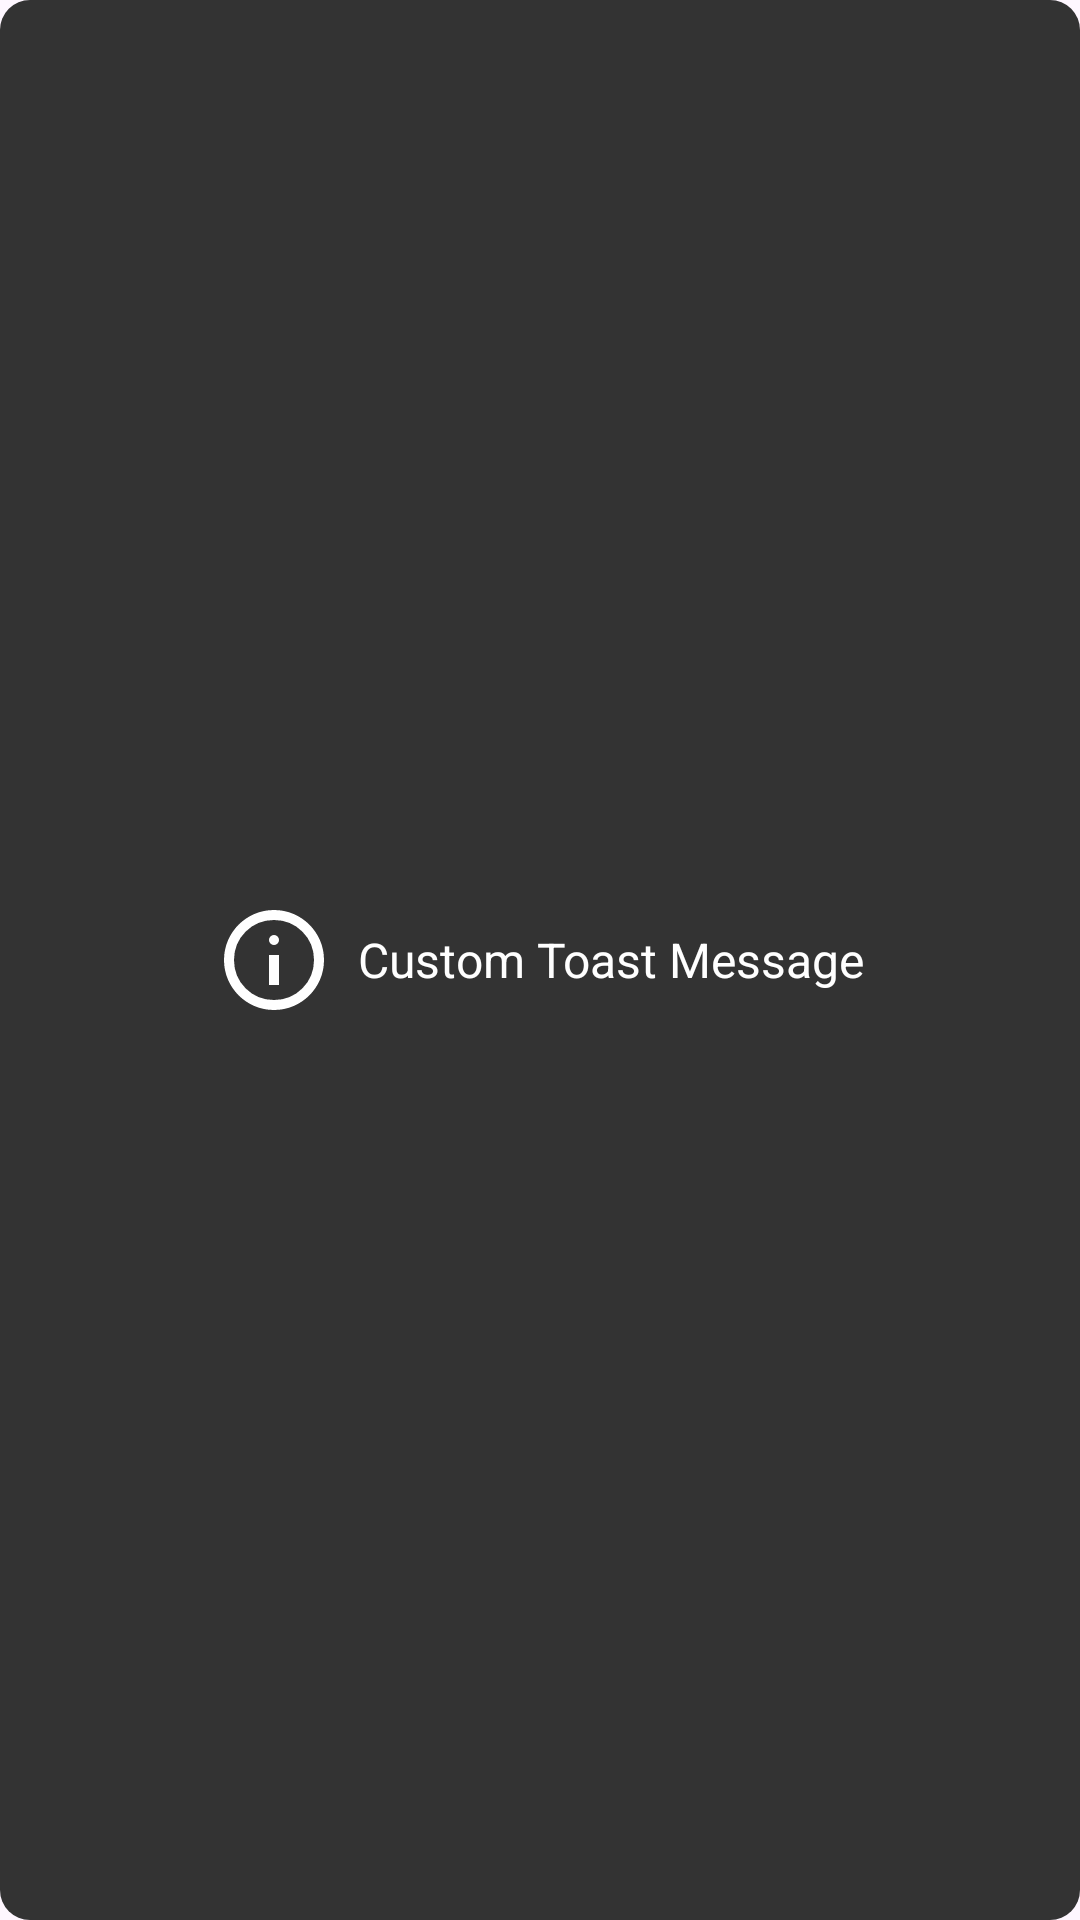

Locate icon controls on the screen. Image size 1080 x 1920, boxes as bbox=(x1, y1, x2, y2).
info: bbox=(224, 910, 324, 1010)
